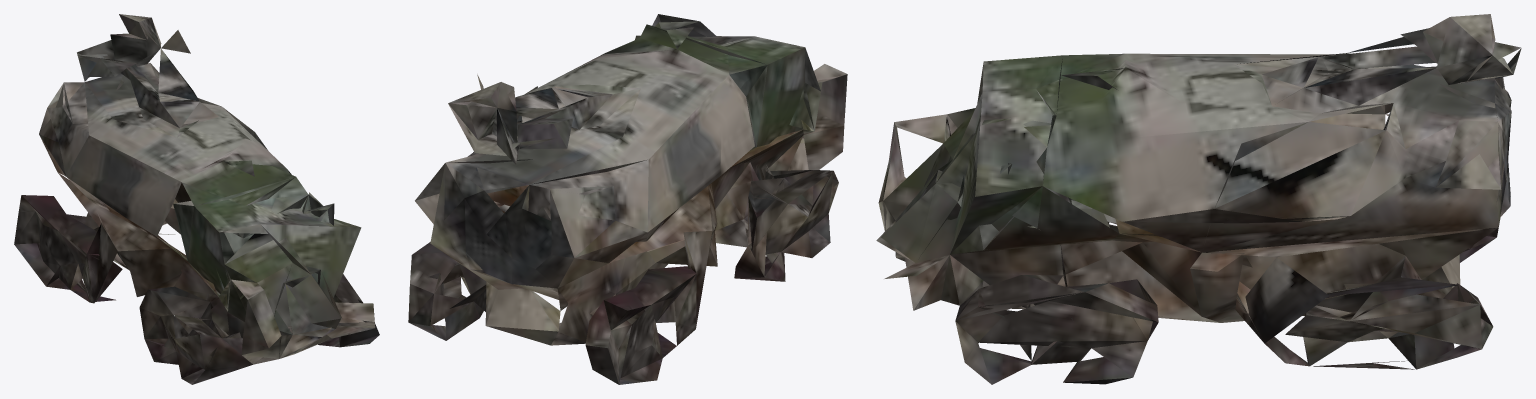
Rendered from extractor_1919765259_lod0.glb.
3 renders of one model, left to right at view 1: azimuth 30°, elevation 25°; view 2: azimuth 150°, elevation 25°; view 3: azimuth 270°, elevation 25°, orthographic. The views are drawn at different scales.
Size of the model in its own units: 5.4 by 6.38 by 11.54.
Materials: 1 (1 with a texture image).
